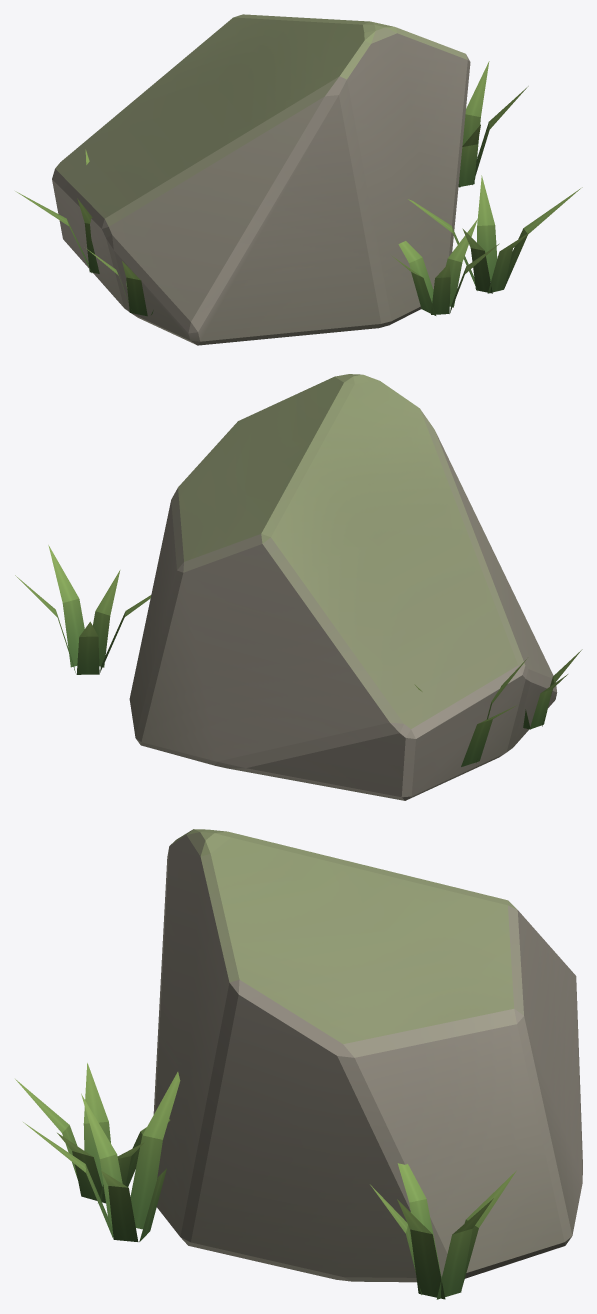
File: boulder_2.glb
3 views of the same model, one above another, from view 1: azimuth 30°, elevation 25°; view 2: azimuth 150°, elevation 25°; view 3: azimuth 270°, elevation 25° (orthographic). The views are drawn at different scales.
Parts seen in each view (by area): view 1: boulder_2_rock, boulder_2_weeds; view 2: boulder_2_rock, boulder_2_weeds; view 3: boulder_2_rock, boulder_2_weeds.
Boxes of the visible parts, bbox=[...] form: boulder_2_rock: bbox=[52, 14, 470, 345]; boulder_2_weeds: bbox=[15, 61, 582, 316]; boulder_2_rock: bbox=[129, 374, 557, 800]; boulder_2_weeds: bbox=[15, 545, 582, 766]; boulder_2_rock: bbox=[153, 829, 582, 1282]; boulder_2_weeds: bbox=[15, 1063, 516, 1299].
Bounding box in the file's own units: 1.37 × 0.8195 × 1.05.
2 materials, 2 textured.
